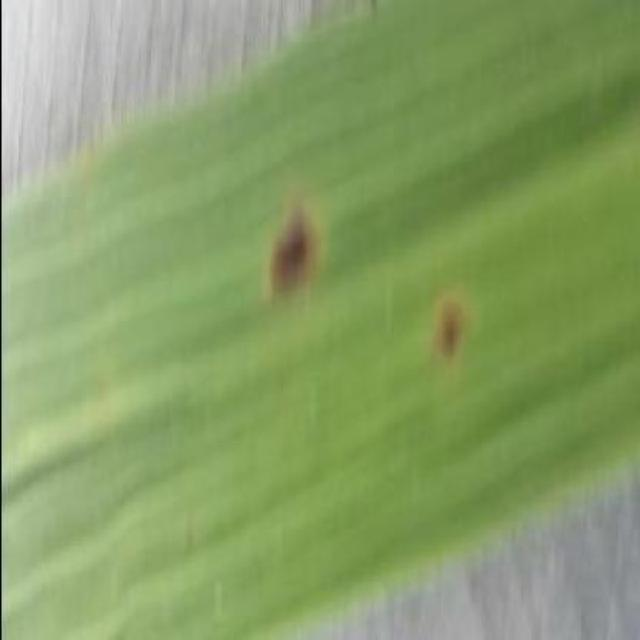Leaf_Blast: (245, 180, 341, 320), (417, 292, 480, 378), (197, 565, 240, 633), (170, 505, 213, 570), (354, 0, 392, 34)
